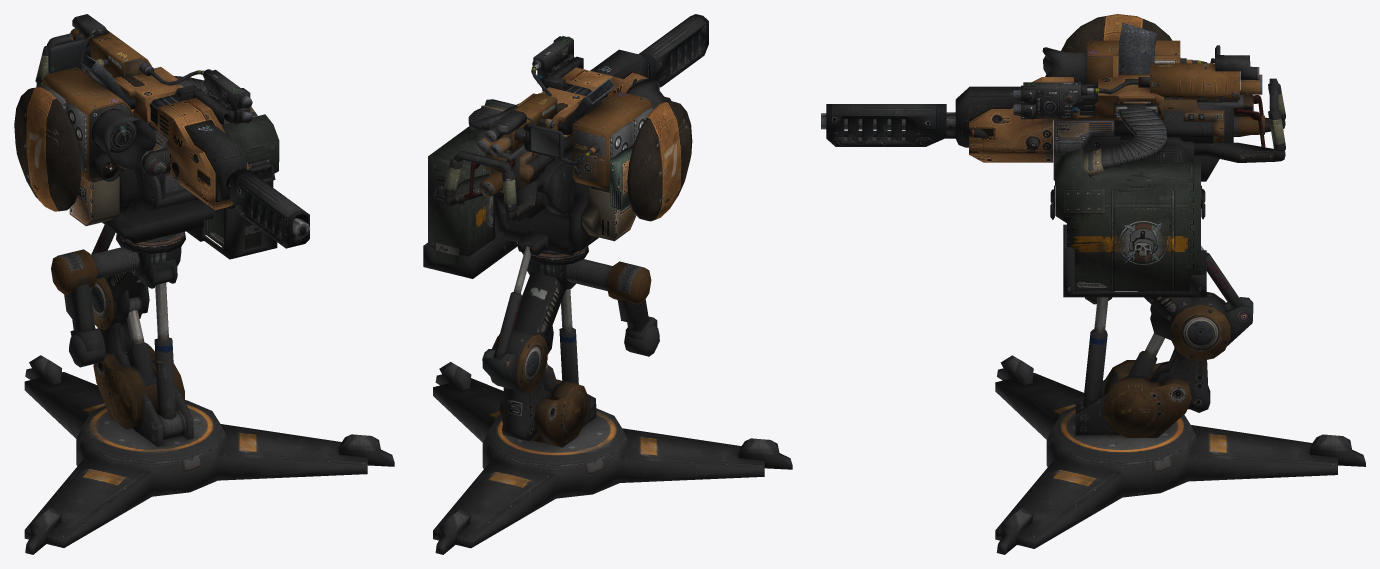
File: test_turret.fbx
3 renders of one model, left to right at view 1: azimuth 30°, elevation 25°; view 2: azimuth 150°, elevation 25°; view 3: azimuth 270°, elevation 25°, orthographic. The views are drawn at different scales.
Visible parts, largest first — view 1: MCOR_Sentry_Turet:Mesh; view 2: MCOR_Sentry_Turet:Mesh; view 3: MCOR_Sentry_Turet:Mesh.
Part boxes in pixels (x1=…): MCOR_Sentry_Turet:Mesh: x1=14, y1=14, x2=394, y2=554; MCOR_Sentry_Turet:Mesh: x1=423, y1=14, x2=792, y2=554; MCOR_Sentry_Turet:Mesh: x1=821, y1=14, x2=1365, y2=554.
Size of the model in its own units: 2.81 by 3.03 by 3.59.
